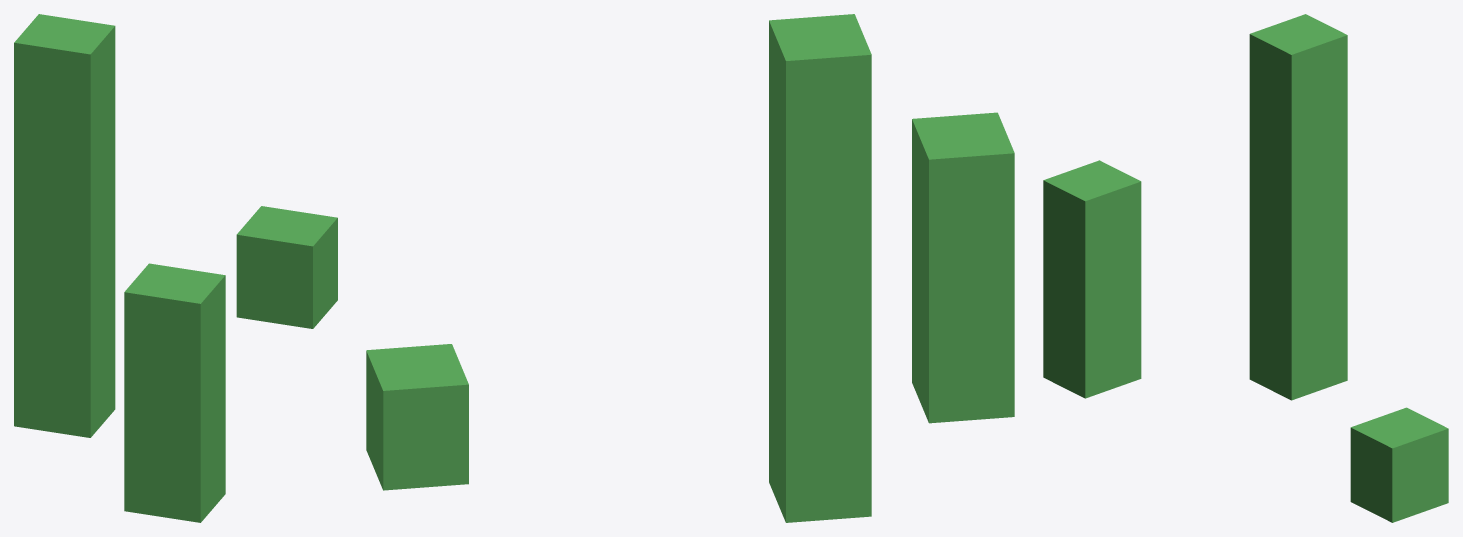
Rendered from Plant_B_03.FBX.
3 views of the same model, side by side, from view 1: azimuth 30°, elevation 25°; view 2: azimuth 150°, elevation 25°; view 3: azimuth 270°, elevation 25° (orthographic). The views are drawn at different scales.
Visible parts, largest first — view 1: Plant_B_03; view 2: Plant_B_03; view 3: Plant_B_03.
Boxes of the visible parts, x1,y1,x2,y2 form: Plant_B_03: (14, 14, 337, 522); Plant_B_03: (366, 14, 1014, 522); Plant_B_03: (1043, 14, 1448, 522).
Bounding box in the file's own units: 0.4521 × 0.4405 × 0.4683.
